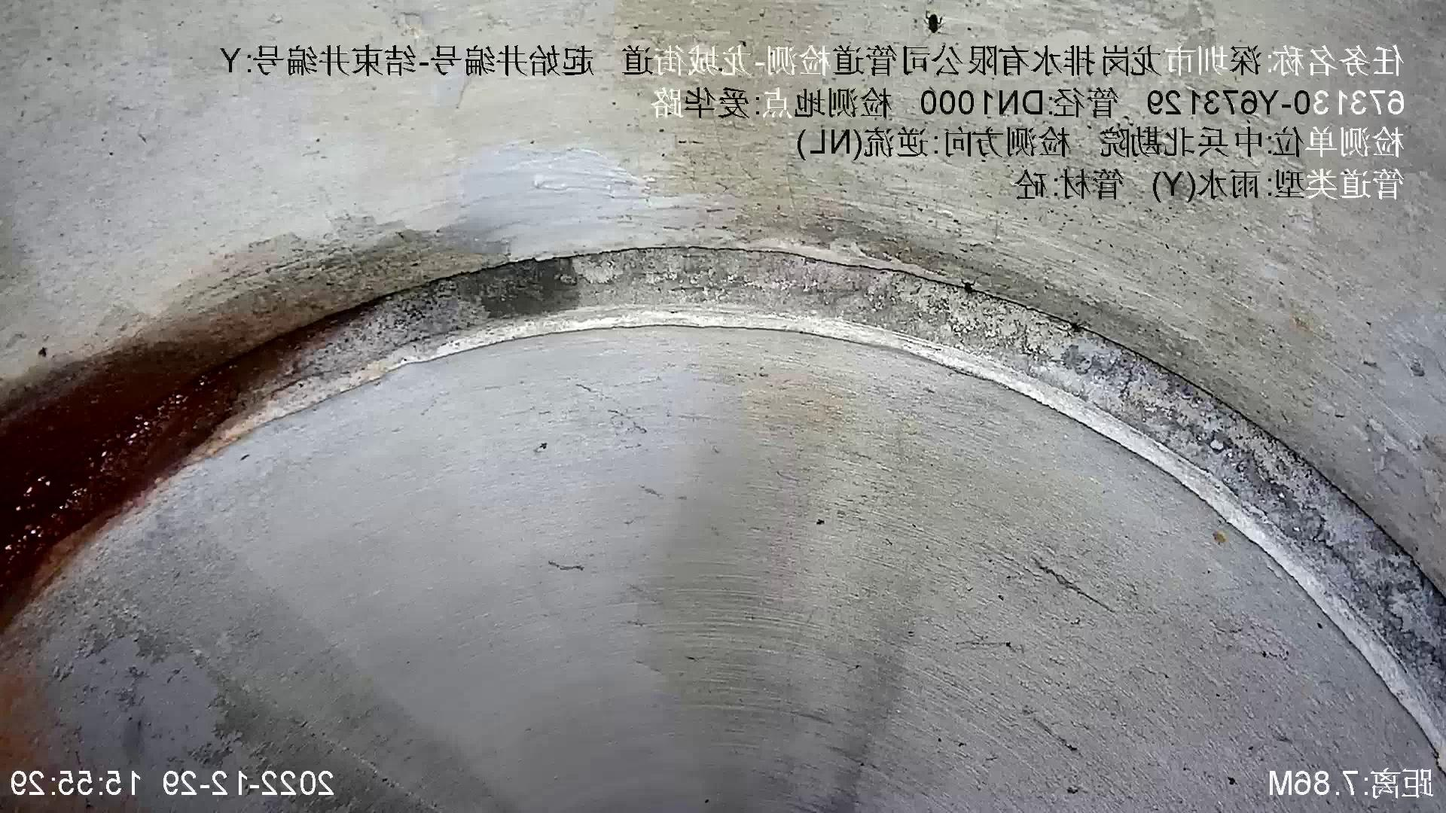CKTJ: (1, 248, 1446, 701)
